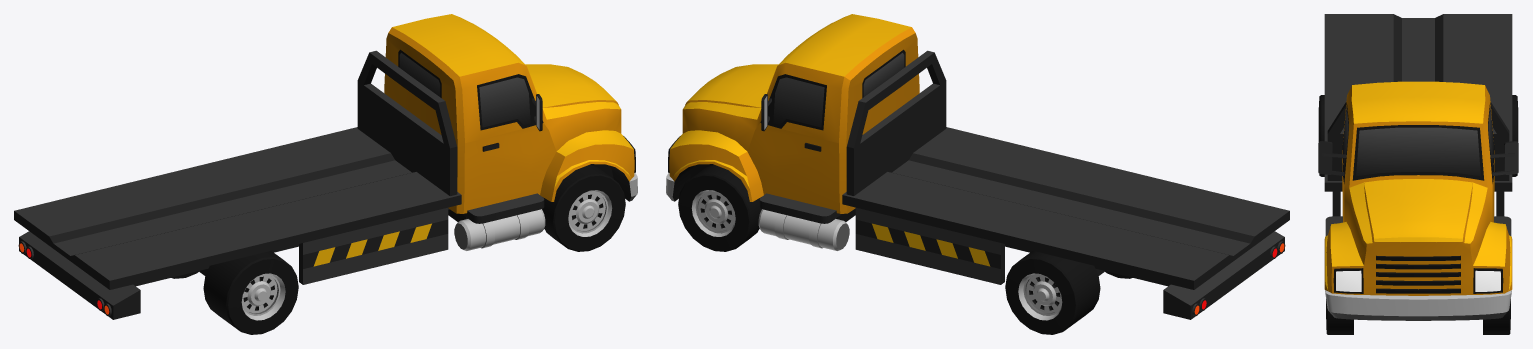
Rendered from Truck_026.glb.
The picture shows the model from 3 angles, left to right: view 1: azimuth 30°, elevation 25°; view 2: azimuth 150°, elevation 25°; view 3: azimuth 270°, elevation 25°; orthographic projection.
Visible parts, largest first — view 1: Truck_026, wheel_3_Truck_026_Wheel_2R, wheel_1_Truck_026_Wheel_1R; view 2: Truck_026, wheel_2_Truck_026_Wheel_2L, wheel_0_Truck_026_Wheel_1L; view 3: Truck_026, wheel_0_Truck_026_Wheel_1L, wheel_1_Truck_026_Wheel_1R, wheel_2_Truck_026_Wheel_2L, wheel_3_Truck_026_Wheel_2R.
Part boxes in pixels (x1,y1,x2,y2): Truck_026: (14, 14, 637, 319); wheel_3_Truck_026_Wheel_2R: (203, 251, 298, 334); wheel_1_Truck_026_Wheel_1R: (542, 165, 625, 251); Truck_026: (666, 14, 1289, 319); wheel_2_Truck_026_Wheel_2L: (1005, 251, 1100, 334); wheel_0_Truck_026_Wheel_1L: (678, 165, 761, 251); Truck_026: (1318, 14, 1518, 320); wheel_0_Truck_026_Wheel_1L: (1483, 299, 1510, 334); wheel_1_Truck_026_Wheel_1R: (1326, 299, 1353, 334); wheel_2_Truck_026_Wheel_2L: (1512, 95, 1518, 176); wheel_3_Truck_026_Wheel_2R: (1318, 95, 1324, 176).
Bounding box in the file's own units: 7.14 × 2.5 × 2.34.
Materials: 2 (2 with a texture image).
